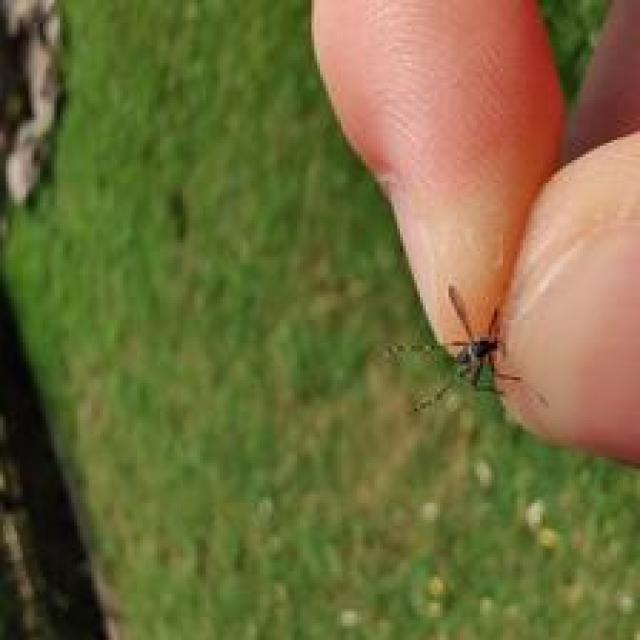Aedes albopictus: (383, 283, 548, 417)
